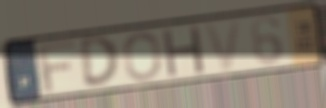6: (249, 14, 287, 68)
D: (77, 34, 122, 89)
F: (36, 39, 77, 94)
H: (160, 23, 207, 80)
O: (122, 30, 164, 82)
V: (202, 17, 244, 74)
